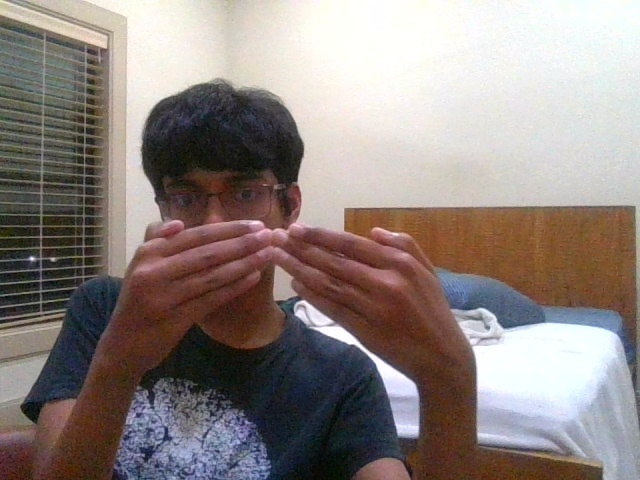thanks: (116, 217, 465, 375)
